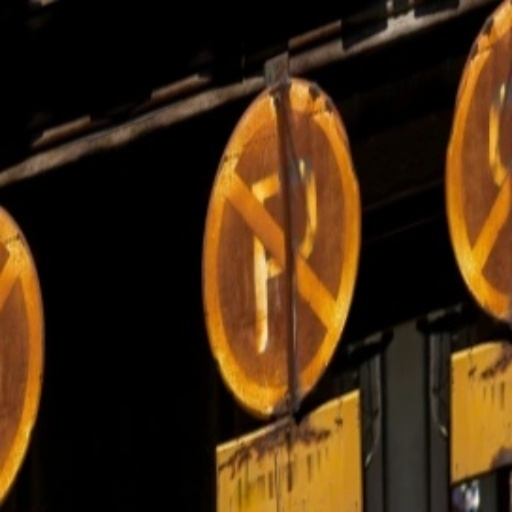No parking: (157, 64, 378, 416)
